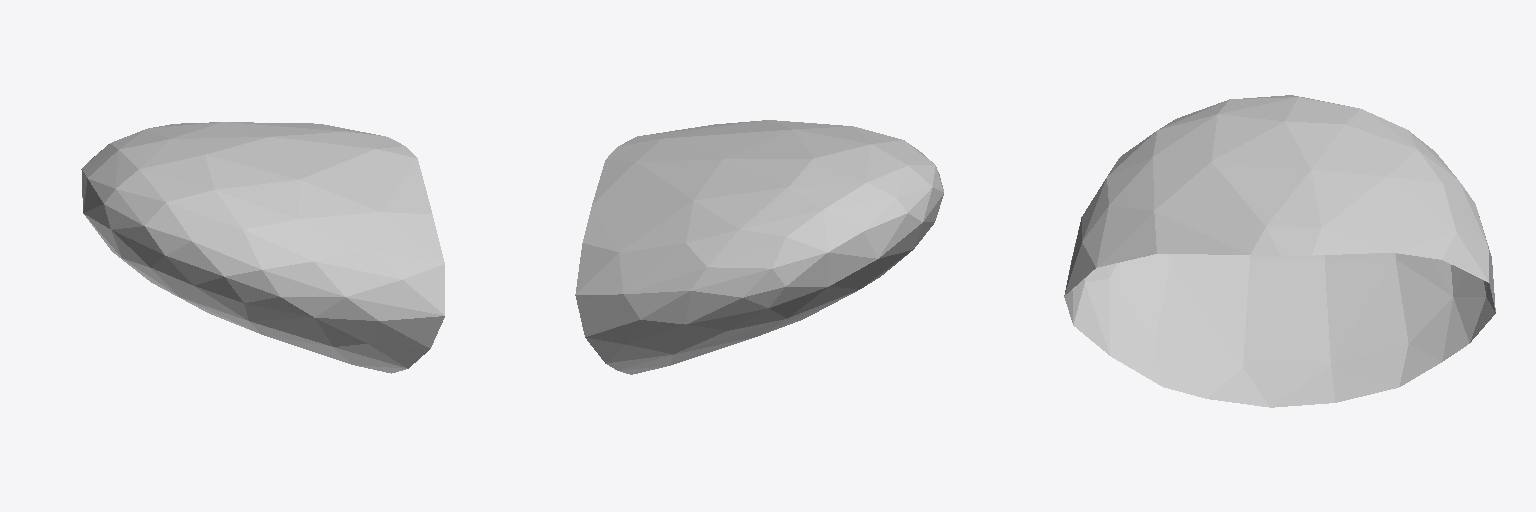
File: mouth.obj
3 renders of one model, left to right at view 1: azimuth 30°, elevation 25°; view 2: azimuth 150°, elevation 25°; view 3: azimuth 270°, elevation 25°, orthographic.
Visible parts, largest first — view 1: mouth; view 2: mouth; view 3: mouth.
Boxes of the visible parts, box(x1,y1,x2,y2) form: mouth: box(81, 122, 444, 373); mouth: box(575, 120, 943, 374); mouth: box(1064, 95, 1495, 407).
Bounding box in the file's own units: 1.98 × 1.4 × 2.46.